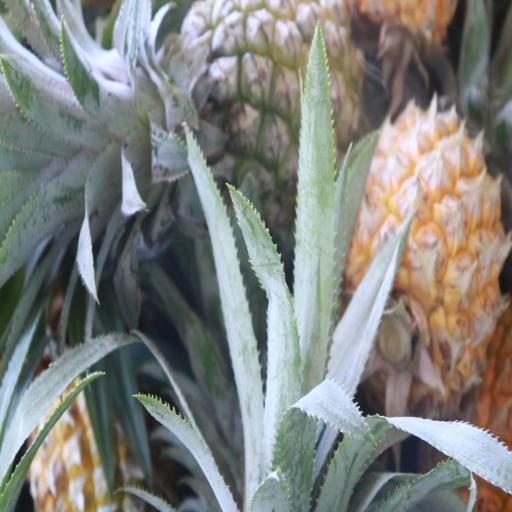Pineapple - v8 v1: (353, 113, 505, 391)
